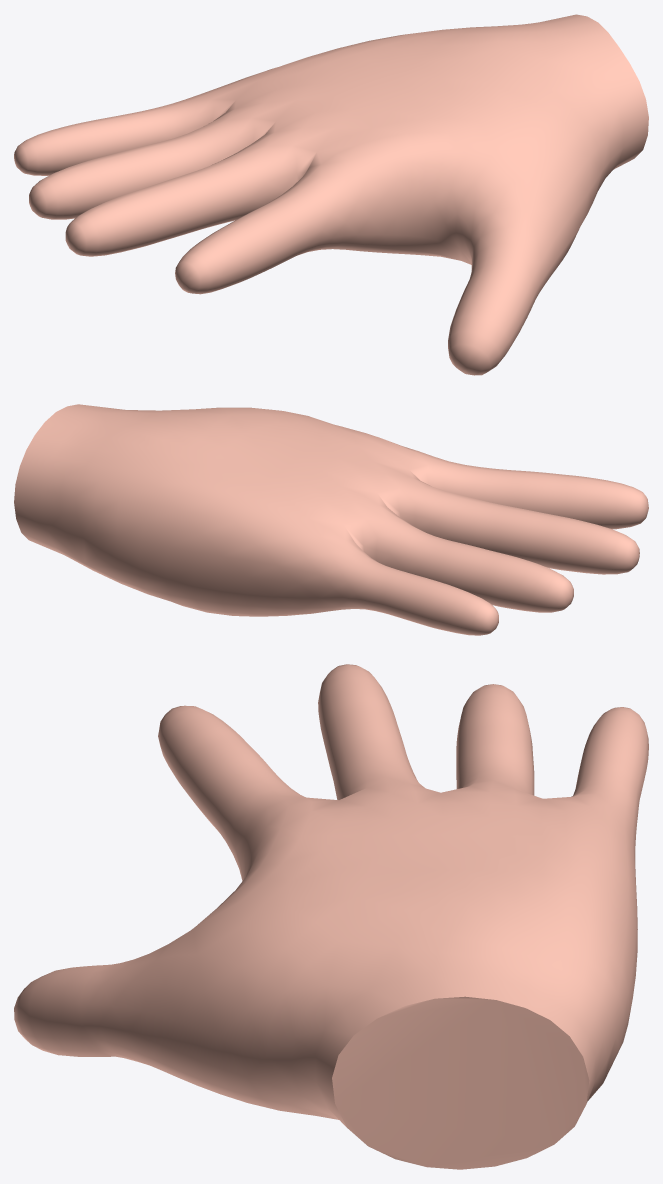
File: Hand_Woman_R_01.fbx
3 views of the same model, one above another, from view 1: azimuth 30°, elevation 25°; view 2: azimuth 150°, elevation 25°; view 3: azimuth 270°, elevation 25° (orthographic). The views are drawn at different scales.
Visible parts, largest first — view 1: Hand_R_01; view 2: Hand_R_01; view 3: Hand_R_01.
Boxes of the visible parts, x1,y1,x2,y2 form: Hand_R_01: (14,14,648,375); Hand_R_01: (14,404,648,635); Hand_R_01: (14,664,648,1169).
Size of the model in its own units: 0.3779 by 0.1128 by 0.2664.
